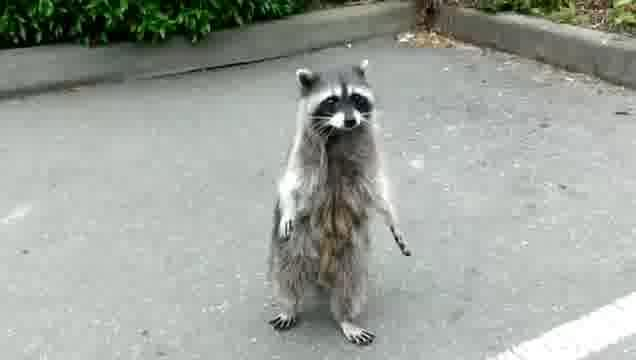raccoon: (254, 52, 416, 350)
